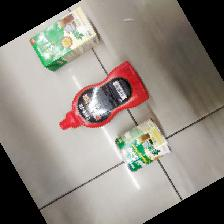Chinsu: (57, 58, 150, 134)
NSPN_Hop: (28, 7, 99, 73)
NSPN_Lon: (114, 118, 169, 174)
